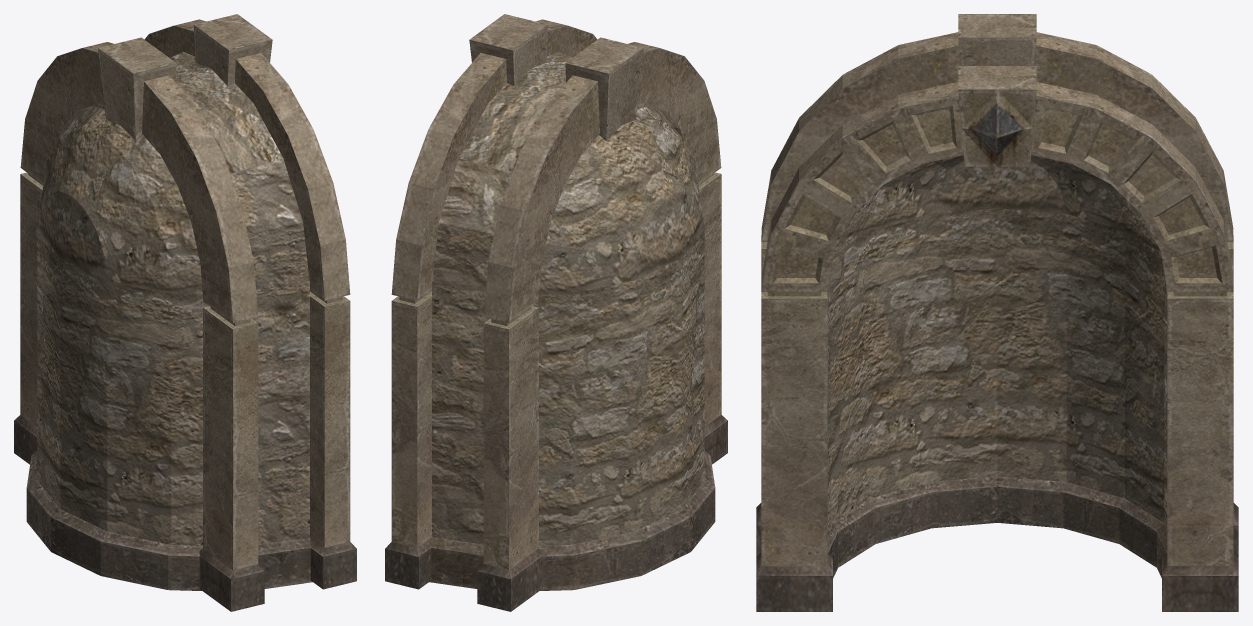
The model's file is bg_lut_lutomb_arch05a_sm_old.FBX.
3 renders of one model, left to right at view 1: azimuth 30°, elevation 25°; view 2: azimuth 150°, elevation 25°; view 3: azimuth 270°, elevation 25°, orthographic. The views are drawn at different scales.
Visible parts, largest first — view 1: bg_lut_lutomb_arch05a_sm_old; view 2: bg_lut_lutomb_arch05a_sm_old; view 3: bg_lut_lutomb_arch05a_sm_old.
Boxes of the visible parts, x1,y1,x2,y2 form: bg_lut_lutomb_arch05a_sm_old: [14, 14, 356, 611]; bg_lut_lutomb_arch05a_sm_old: [385, 14, 727, 611]; bg_lut_lutomb_arch05a_sm_old: [756, 14, 1238, 611].
Bounding box in the file's own units: 106 × 220 × 182.
